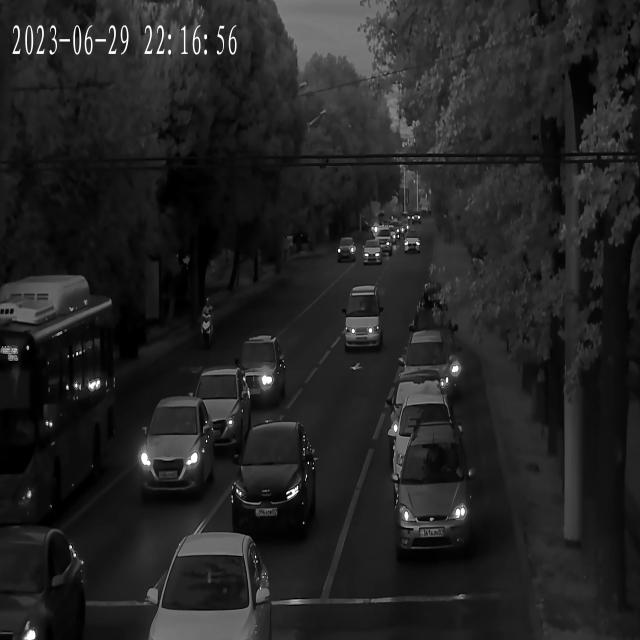Bus: (0, 282, 119, 518)
Car: (149, 528, 274, 638), (393, 427, 475, 561), (229, 423, 317, 533), (0, 531, 87, 639), (139, 398, 216, 502), (178, 368, 253, 458), (390, 394, 466, 478), (230, 334, 288, 404), (397, 332, 454, 401), (344, 286, 383, 351), (336, 238, 358, 262), (360, 245, 381, 265), (372, 236, 393, 256), (404, 235, 422, 255)
Motorcycle: (202, 300, 222, 351)
